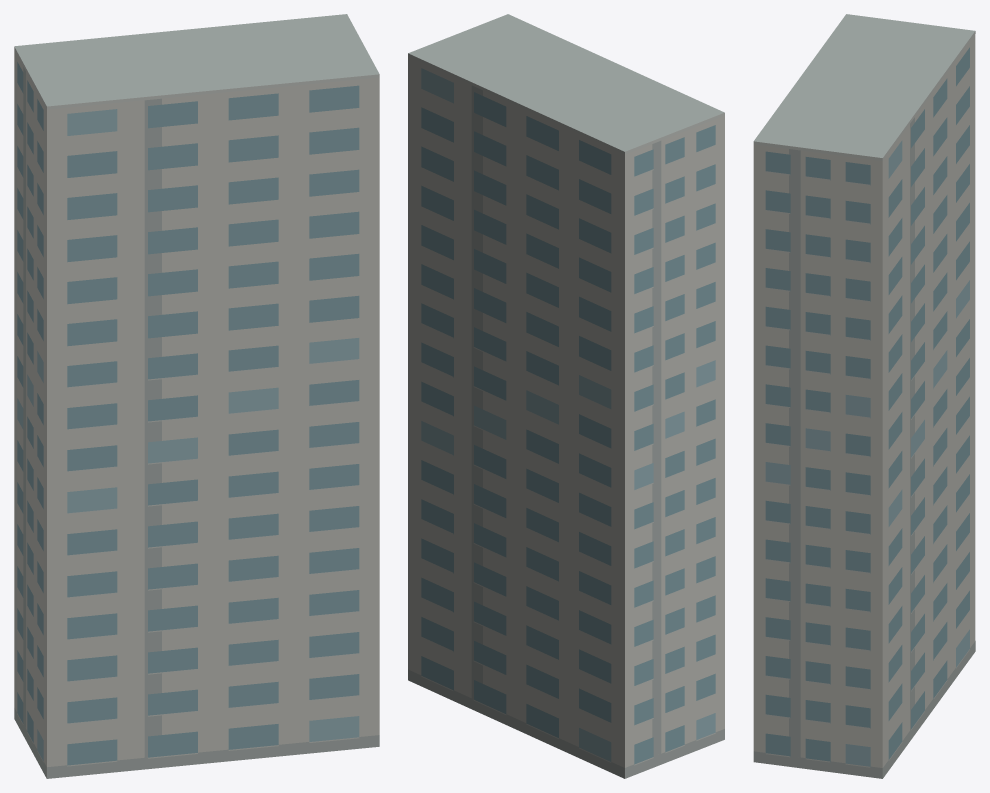
The model's file is residential-7b6b7a92-42fe-46ef-b539-ffba02015621.glb.
3 views of the same model, side by side, from view 1: azimuth 30°, elevation 25°; view 2: azimuth 150°, elevation 25°; view 3: azimuth 270°, elevation 25° (orthographic). The views are drawn at different scales.
Parts seen in each view (by area): view 1: residential-7b6b7a92-42fe-46ef-b539-ffba02015621.tmp; view 2: residential-7b6b7a92-42fe-46ef-b539-ffba02015621.tmp; view 3: residential-7b6b7a92-42fe-46ef-b539-ffba02015621.tmp.
Part boxes in pixels (<box>): residential-7b6b7a92-42fe-46ef-b539-ffba02015621.tmp: <box>14,14,379,778</box>; residential-7b6b7a92-42fe-46ef-b539-ffba02015621.tmp: <box>408,14,724,778</box>; residential-7b6b7a92-42fe-46ef-b539-ffba02015621.tmp: <box>753,14,975,778</box>.
Size of the model in its own units: 24.91 by 50 by 16.21.
